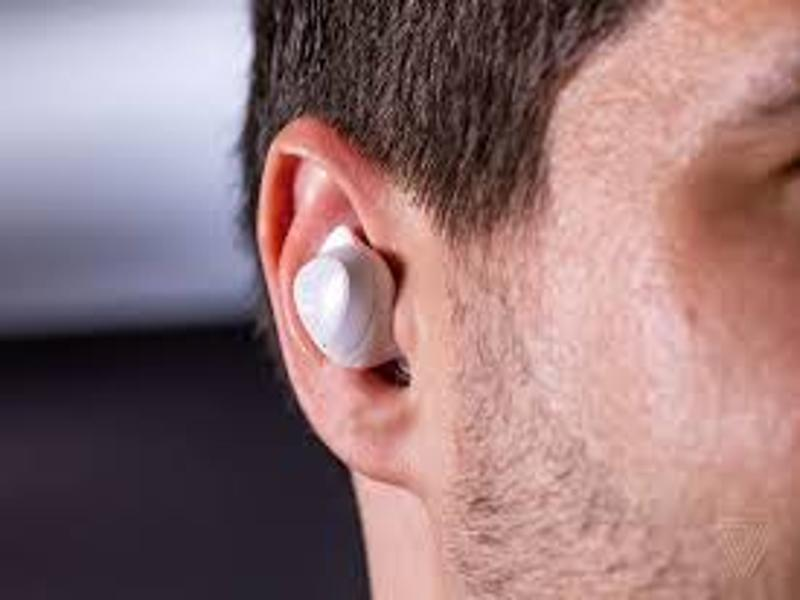headphone: (289, 228, 414, 376)
